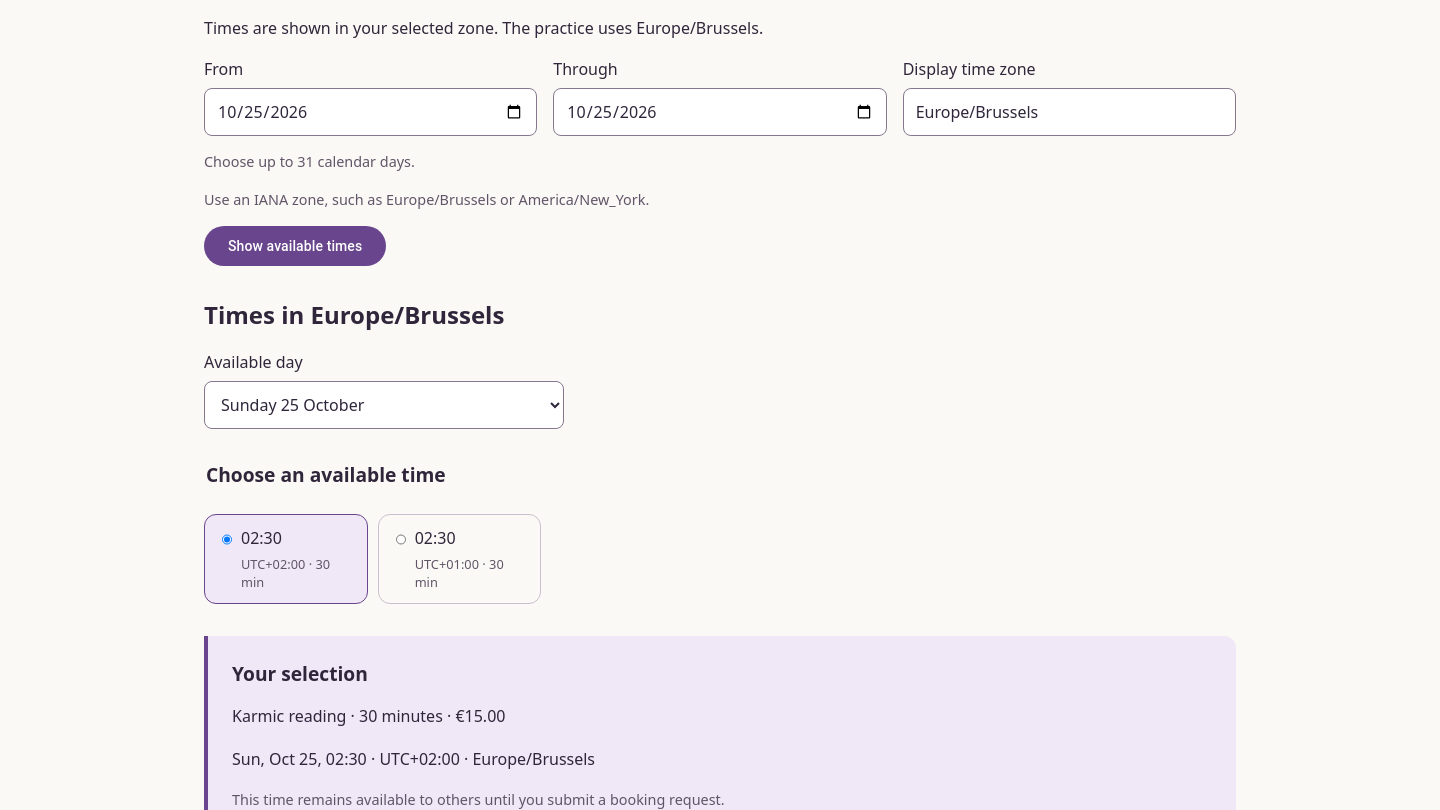
Test: Real catalog-backed service and time selection › shows one available day at a time and clears selection when the day changes
(page scrolled)
Expected: the number of radio buttons named "time" is 2, [222,533,232,546]; [396,533,406,546]
Expected: the label "Available day" is shown, [204,351,303,373]
Select "Monday 26 October" in the dropdown with id "available-day" at (384,405), box [204,381,564,429]
(page scrolled)
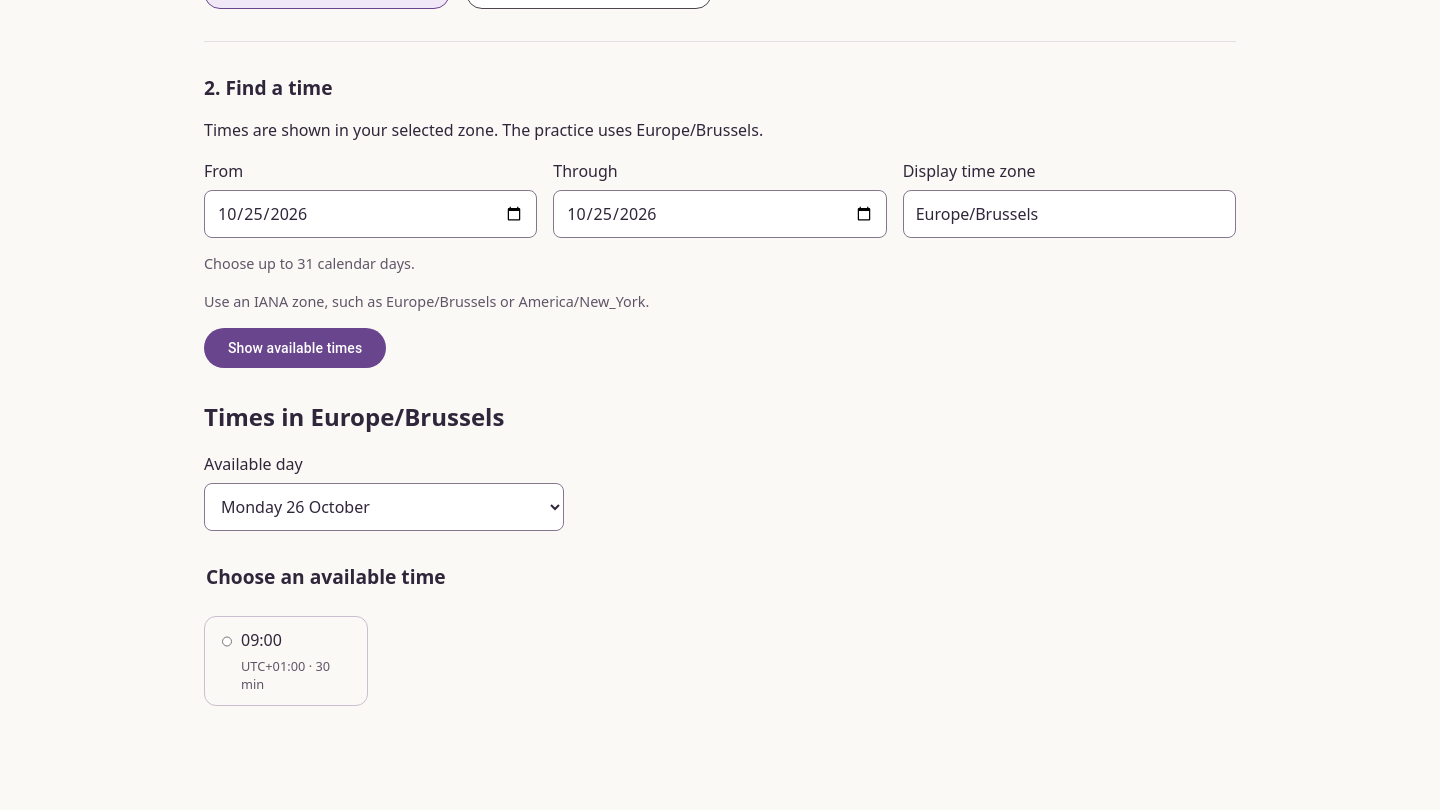
Expected: the number of radio buttons named "time" is 1, [222,635,232,648]
Expected: the text "09:00" is shown, [241,629,282,651]
